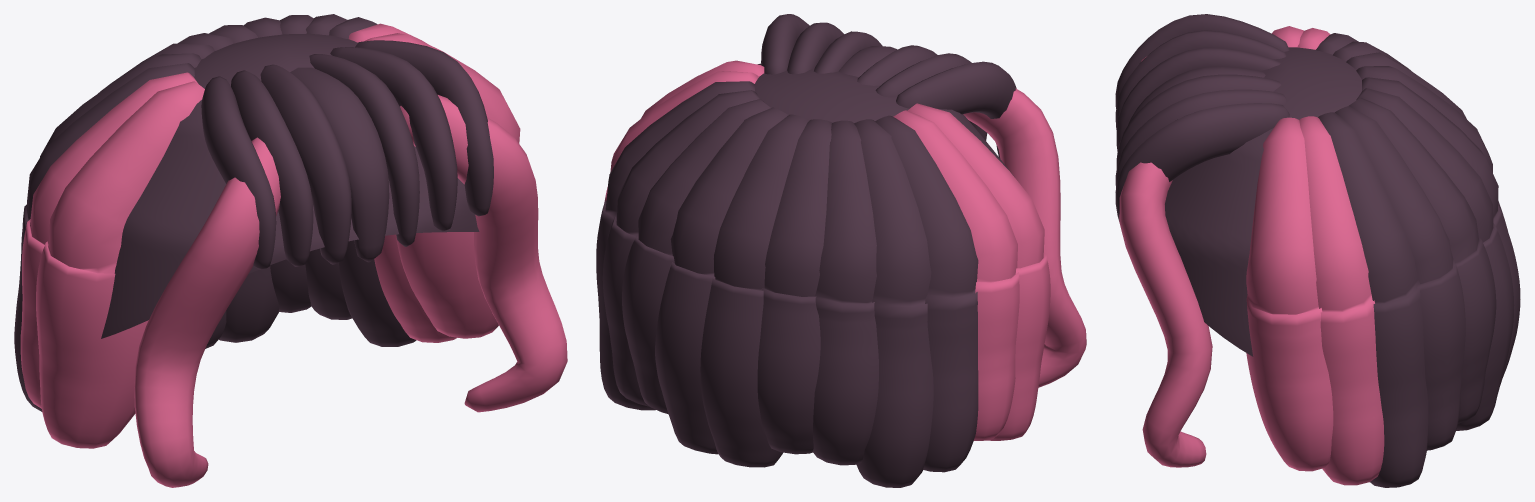
Rendered from studio_bob_short.glb.
3 renders of one model, left to right at view 1: azimuth 30°, elevation 25°; view 2: azimuth 150°, elevation 25°; view 3: azimuth 270°, elevation 25°, orthographic. The views are drawn at different scales.
Visible parts, largest first — view 1: bob; view 2: bob; view 3: bob.
Part boxes in pixels (x1,y1,x2,y2): bob: [14, 14, 567, 487]; bob: [596, 14, 1086, 487]; bob: [1115, 14, 1520, 487].
Bounding box in the file's own units: 0.5624 × 0.4243 × 0.4498.
